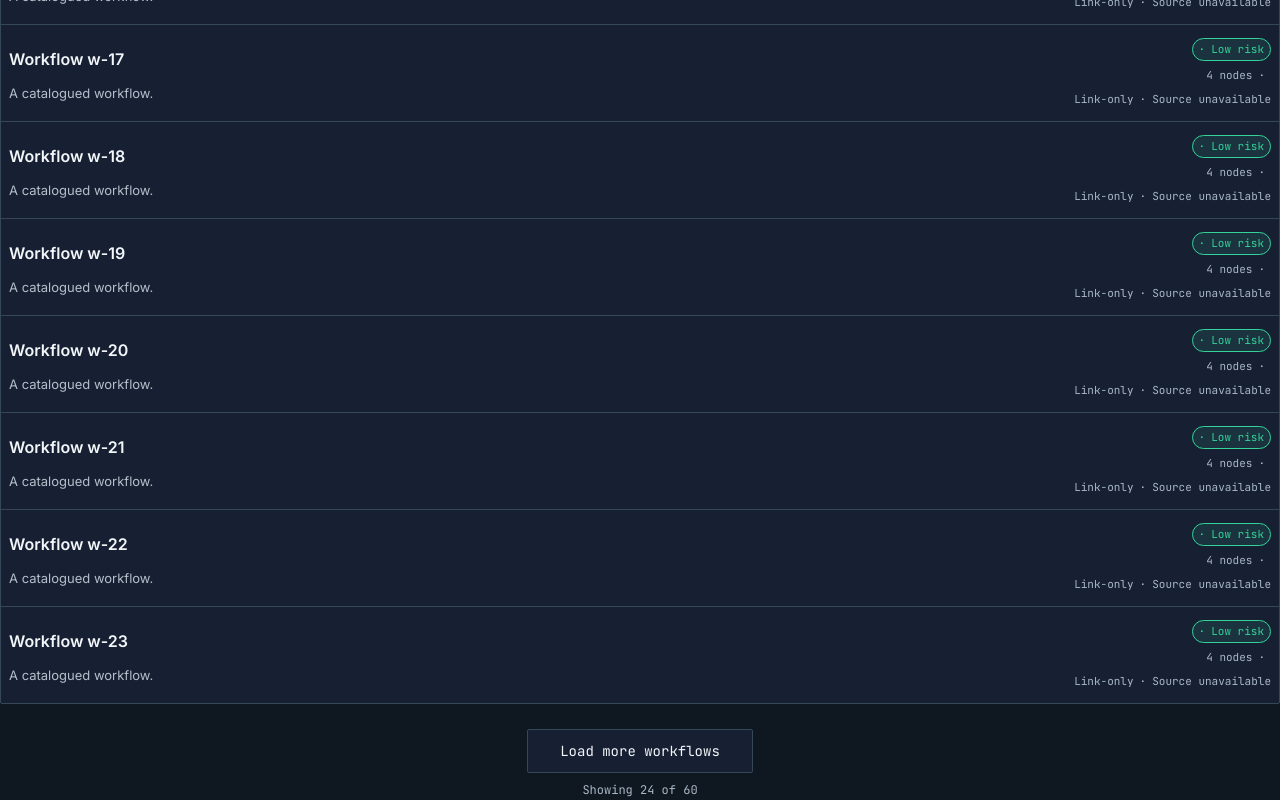
Scenario: library pagination › withdraws the control once every result is on screen
(page scrolled)
Step 1. Click the button "Load more workflows" → [640, 751], box [527, 729, 753, 773]
(page scrolled)
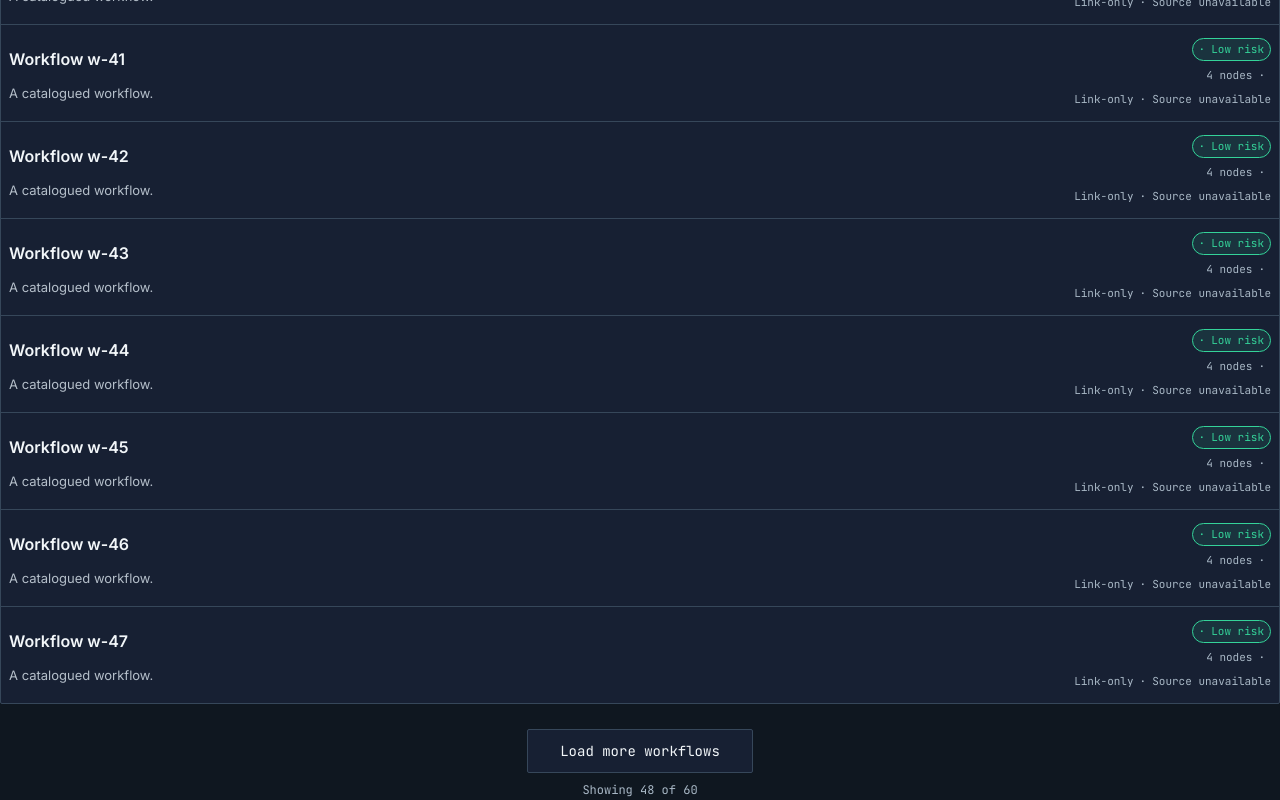
Step 2. Click the button "Load more workflows" → [640, 751], box [527, 729, 753, 773]
(page scrolled)
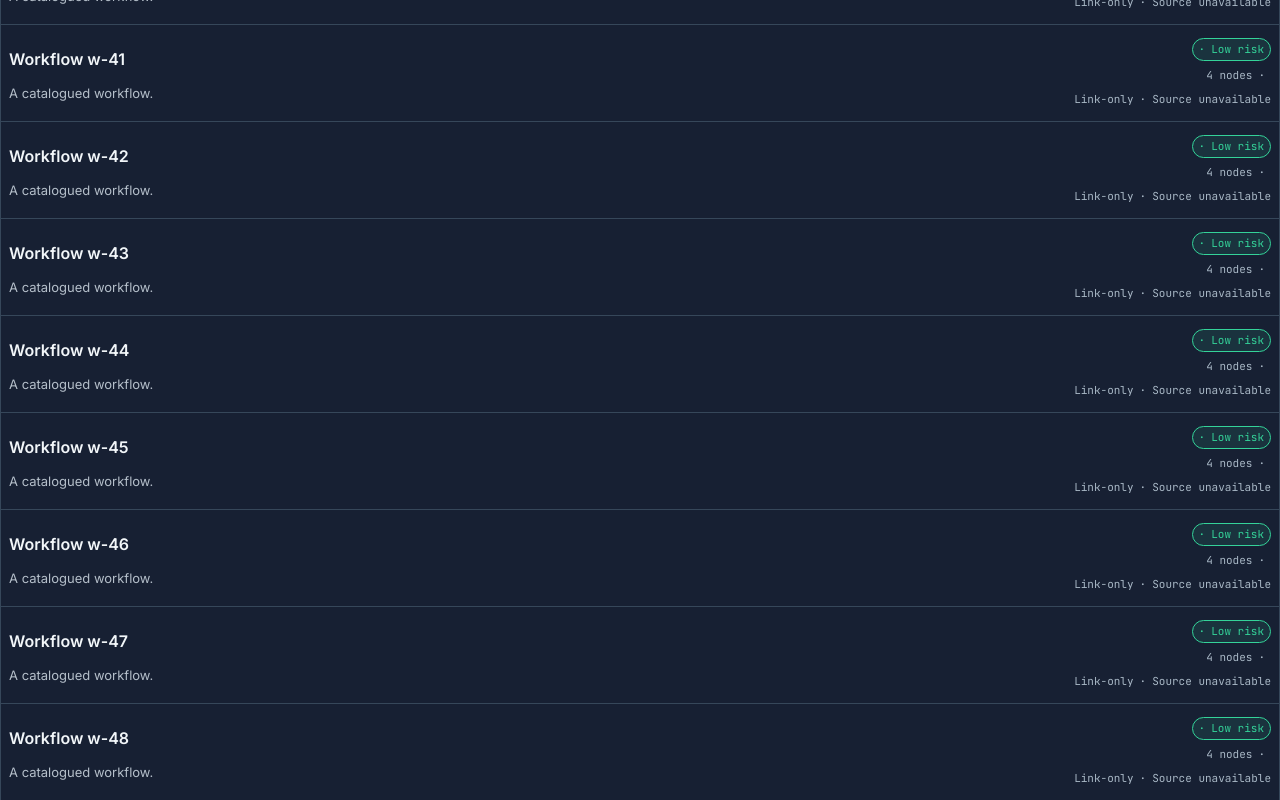
Expected: the button "Load more" is gone
